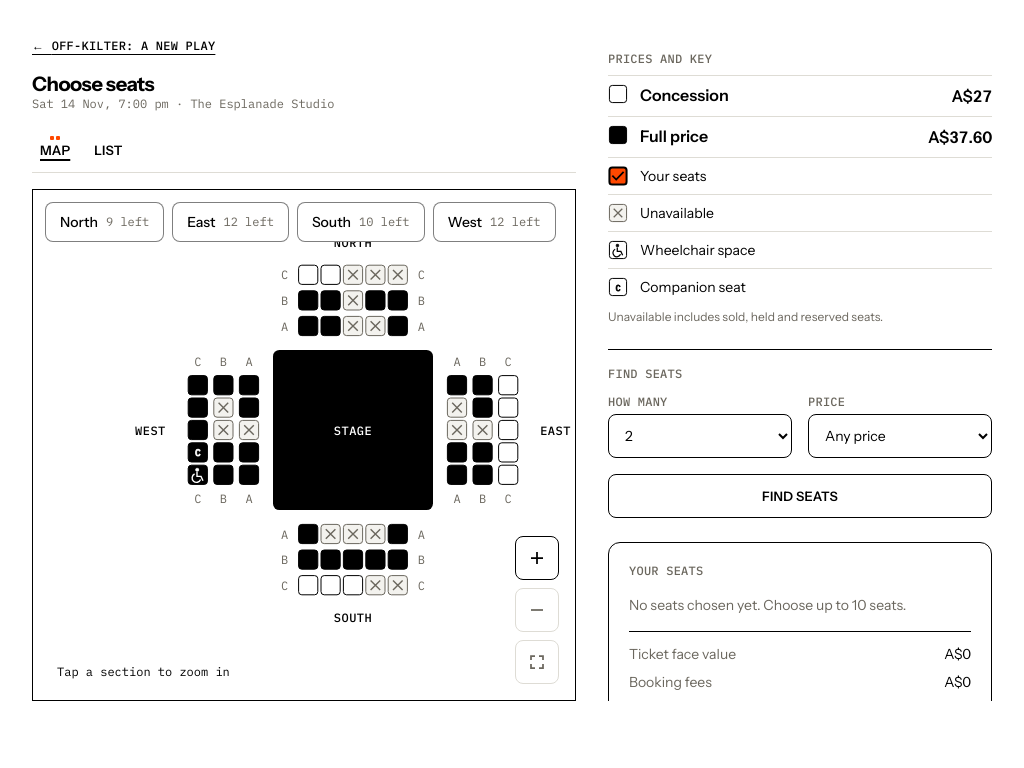
Support Sheltüh while paused (NEXT_PUBLIC_SUPPORT_SHELTUH isn't "1") › on the seat page, the API refusing support while it's paused is said as an error
Step 1. Click the tab "List" → [108, 150], box [86,128,130,172]
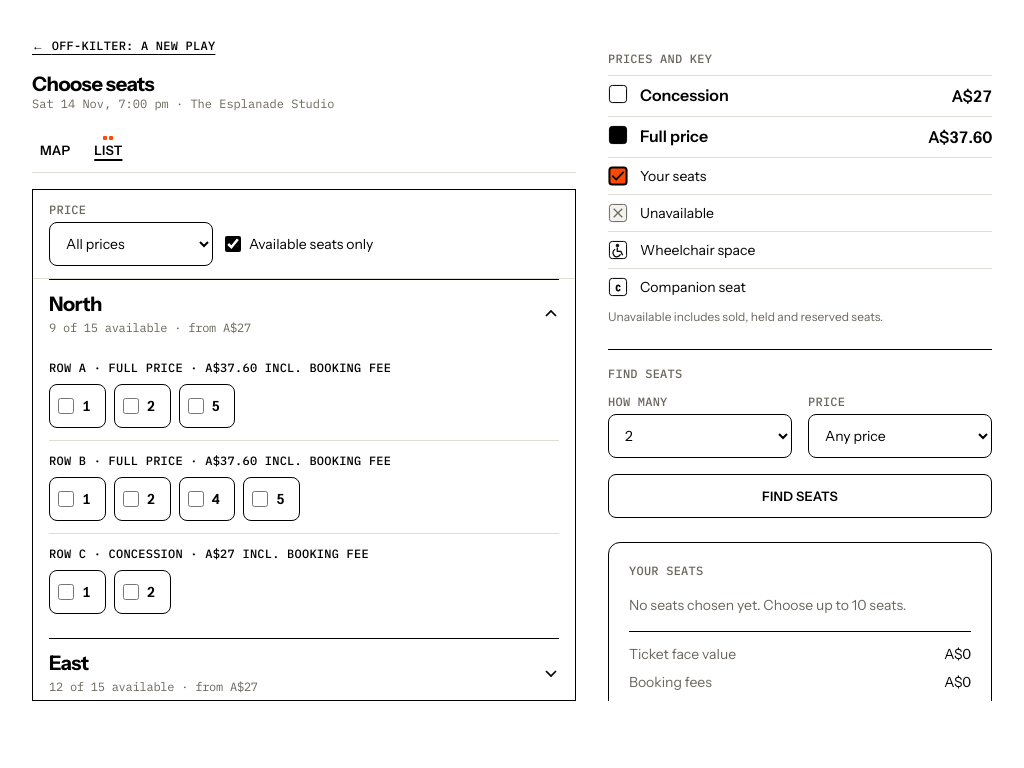
Step 2. Click the checkbox named "Seat 1, " → [66, 406], box [58,398,74,414]
(page scrolled)
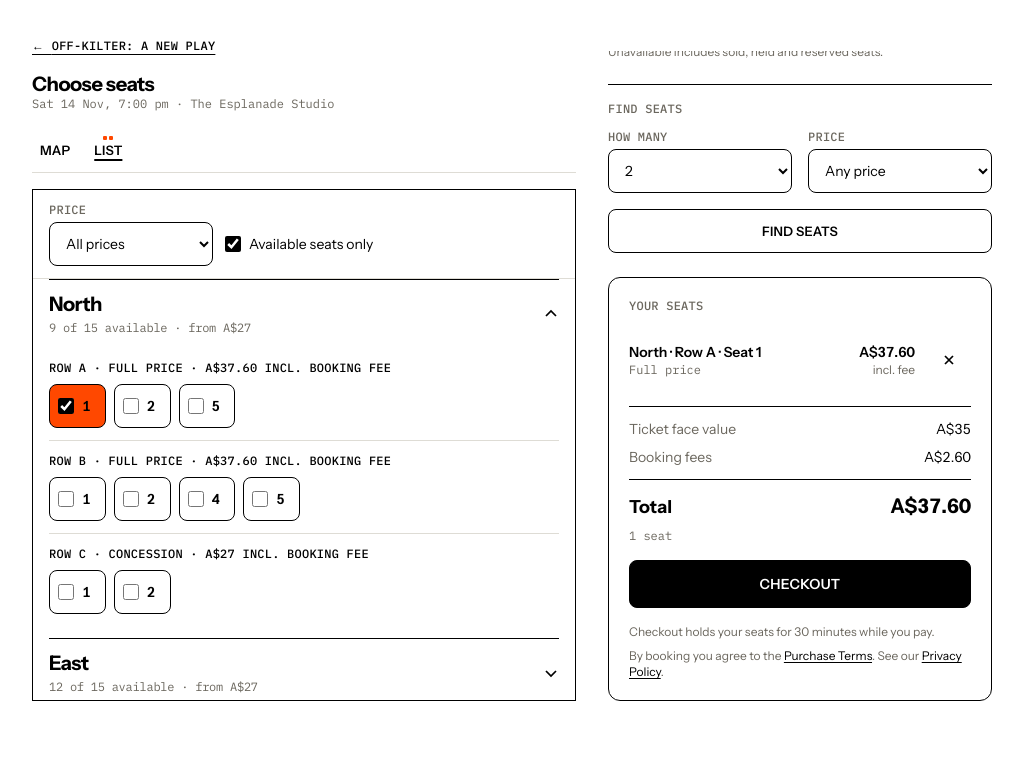
Step 3. Click the button "Checkout" → [800, 584], box [629,560,971,608]
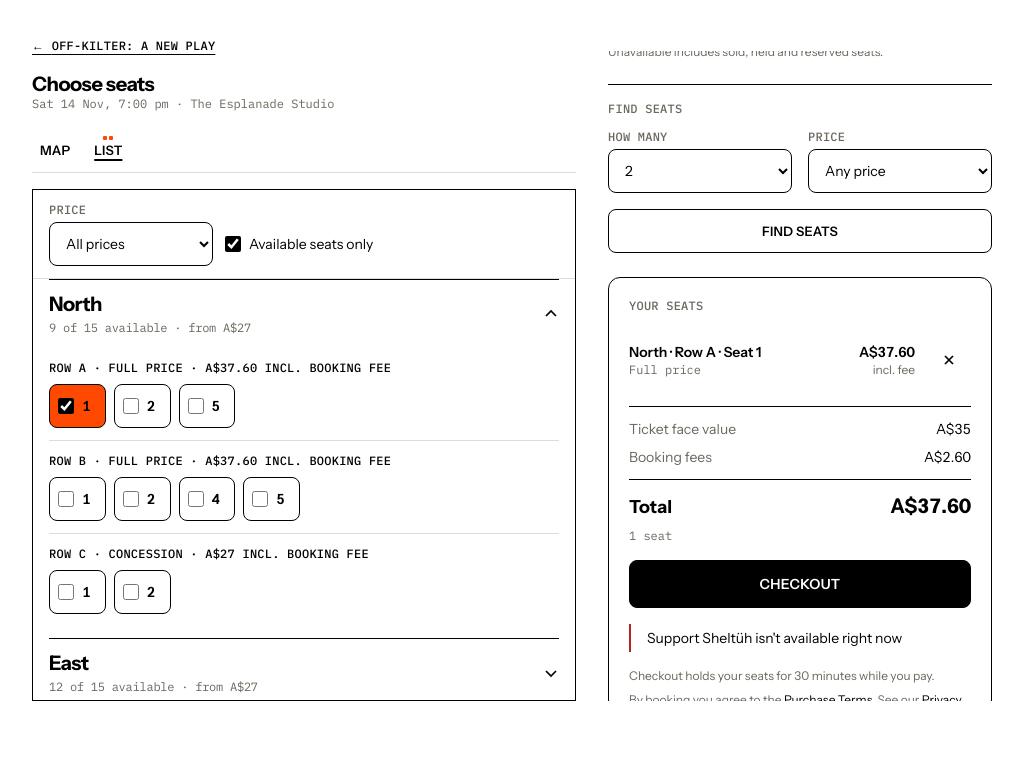
Expected: the message reads "Support Sheltüh isn't available right now", [647,629,902,647]
